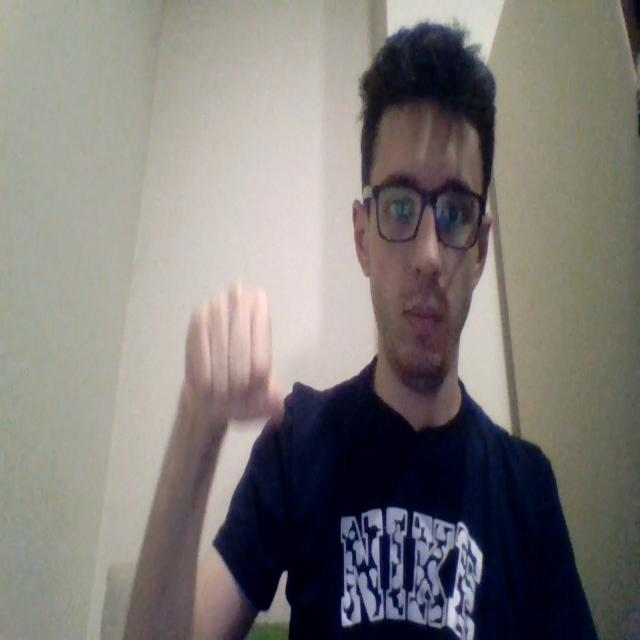yes: (182, 276, 274, 436)
